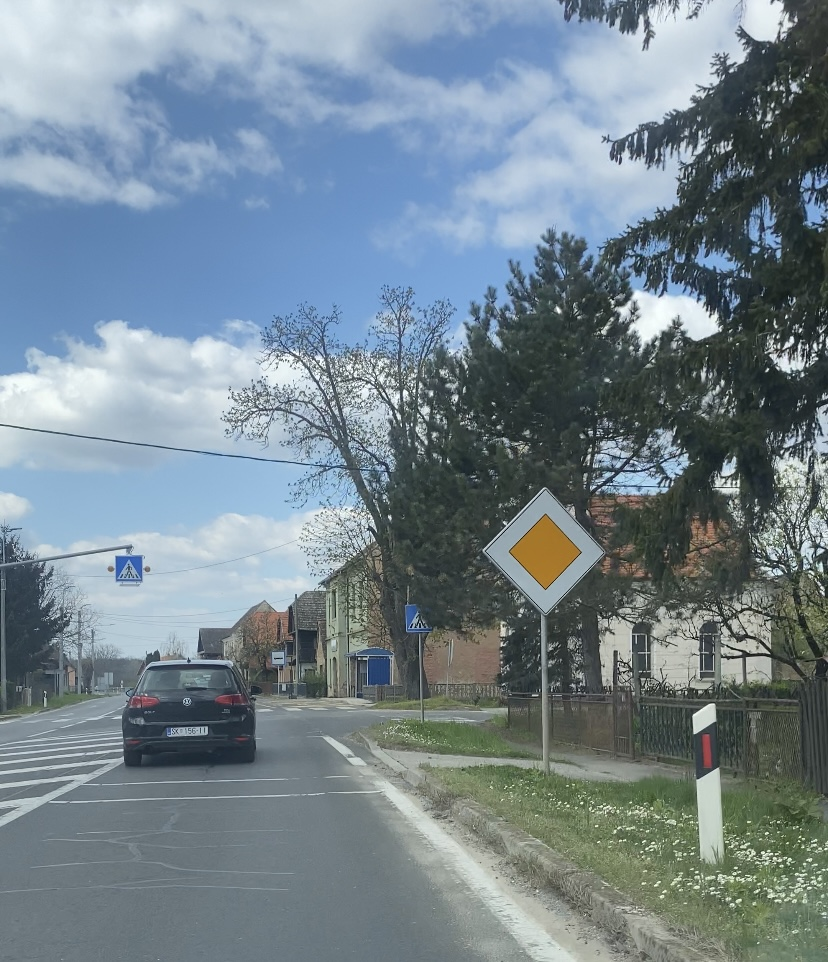Cesta s prednošću prolaska: (481, 486, 608, 618)
Pješački prijelaz: (115, 555, 142, 581)
